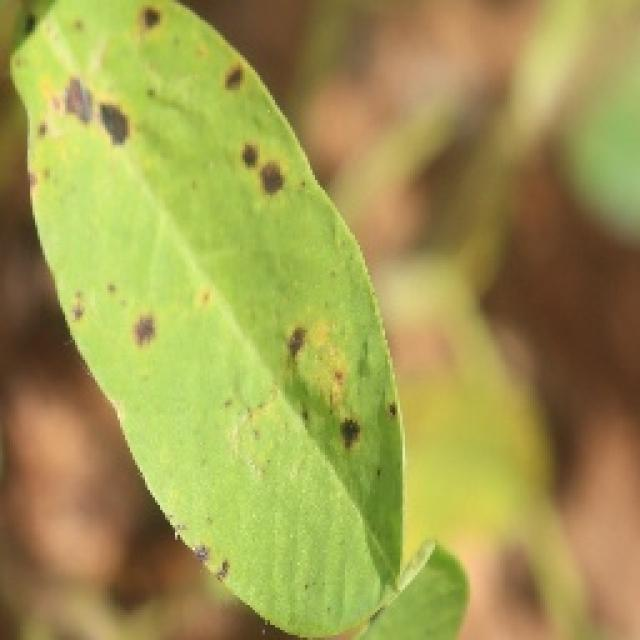Yellowish: (2, 0, 418, 632)
